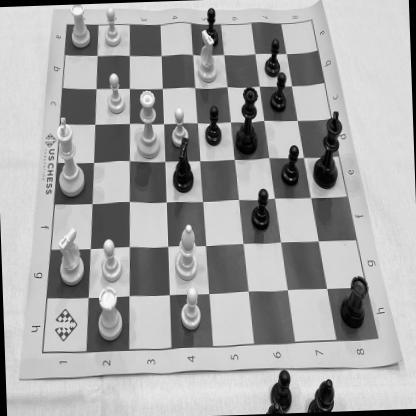bishop: (171, 222, 201, 284)
king: (308, 106, 347, 194), (50, 114, 86, 200)
knight: (53, 226, 88, 288), (166, 136, 198, 196), (194, 26, 220, 88)
pawn: (178, 282, 206, 332), (98, 236, 124, 286), (249, 188, 274, 237), (278, 145, 304, 188), (168, 104, 192, 150), (198, 2, 222, 47), (266, 72, 290, 115), (101, 3, 123, 49), (261, 35, 283, 80), (202, 103, 223, 149), (104, 74, 127, 116)
queen: (230, 82, 262, 158), (132, 84, 162, 164)
rook: (337, 268, 371, 332), (92, 284, 127, 344), (64, 4, 93, 52)
